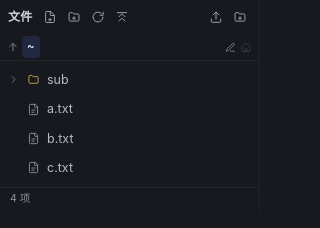
Test: FileTree desktop multi-select › forgets selected rows that are gone after a refresh
The width and height of the screenshot is (320, 228).
Click the list item "a.txt" at coordinates (50, 109), box [27,101,73,116]
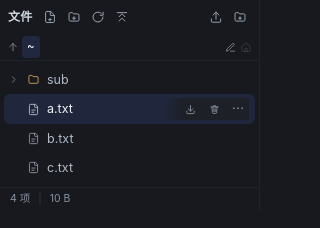
Click the list item "b.txt" at coordinates (50, 138), box [27,131,74,146]
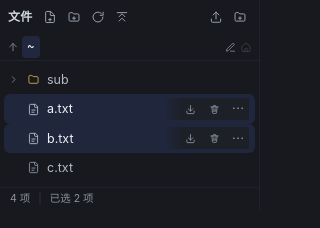
Click the button named "刷新文件列表" at coordinates (98, 17), box [87,6,109,28]
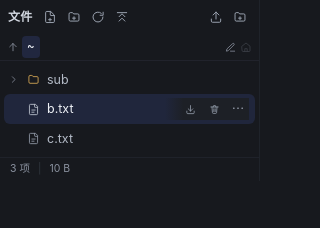
Now the text "a.txt" is gone
